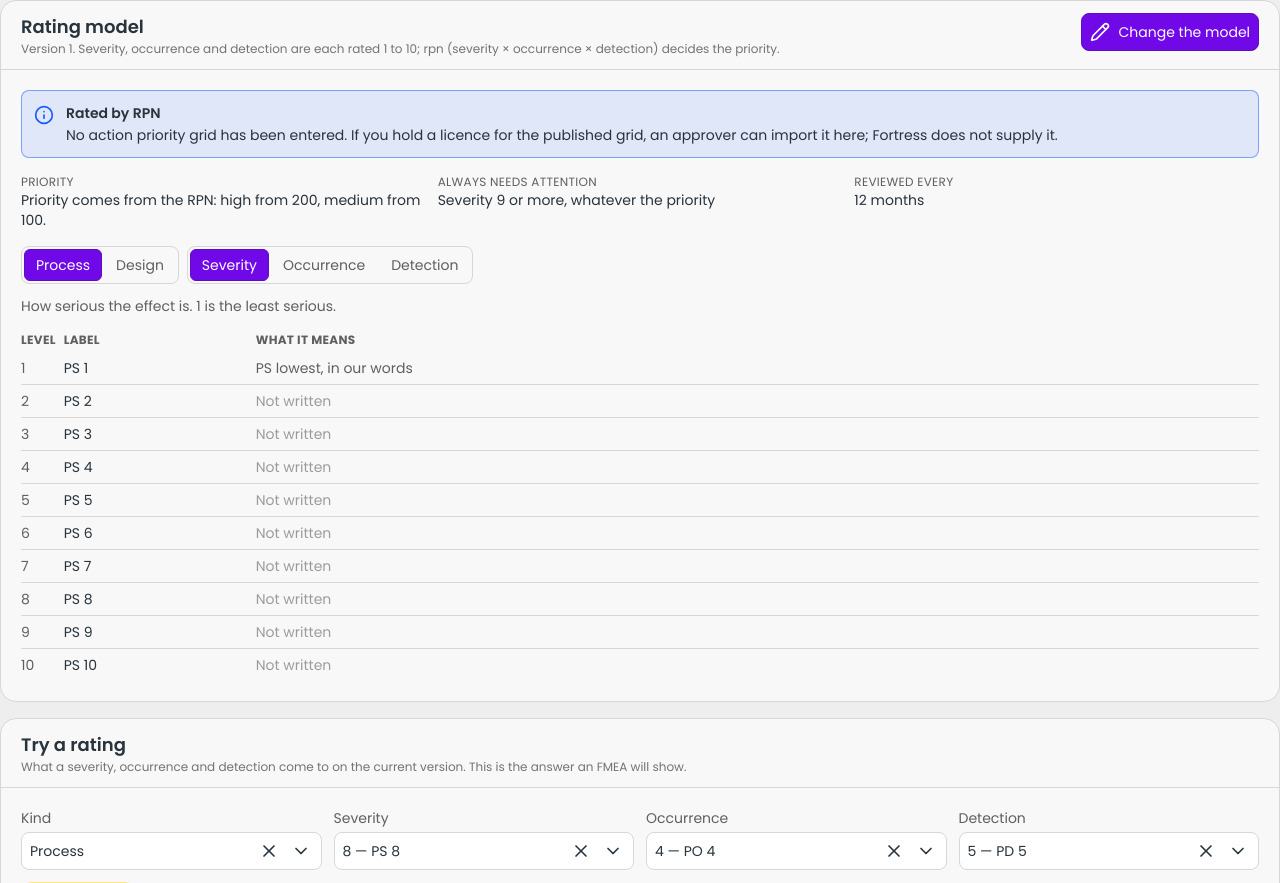
it: Settings → FMEA › shows the model: method, thresholds and the words of each scale, per kind
Expected: the text "Priority comes from the RPN: high from 200, medium from 100." is shown, [21,190,426,230]
Expected: the text "Rated by RPN" is shown, [66,103,160,123]
Click the radio button labelled "Design".
click(140, 265)  # box [104,249,176,281]
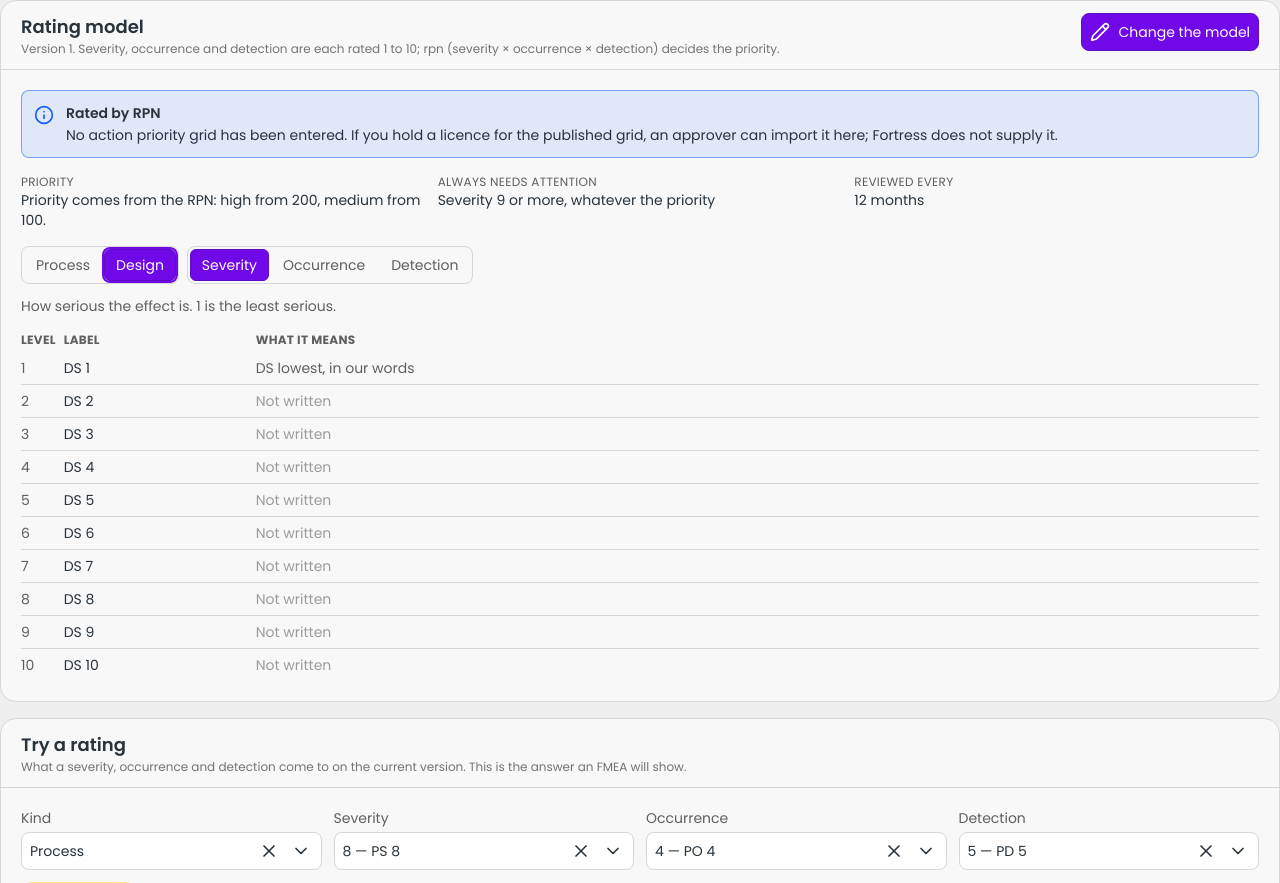
Click the radio button labelled "Detection".
click(425, 265)  # box [379,249,470,281]
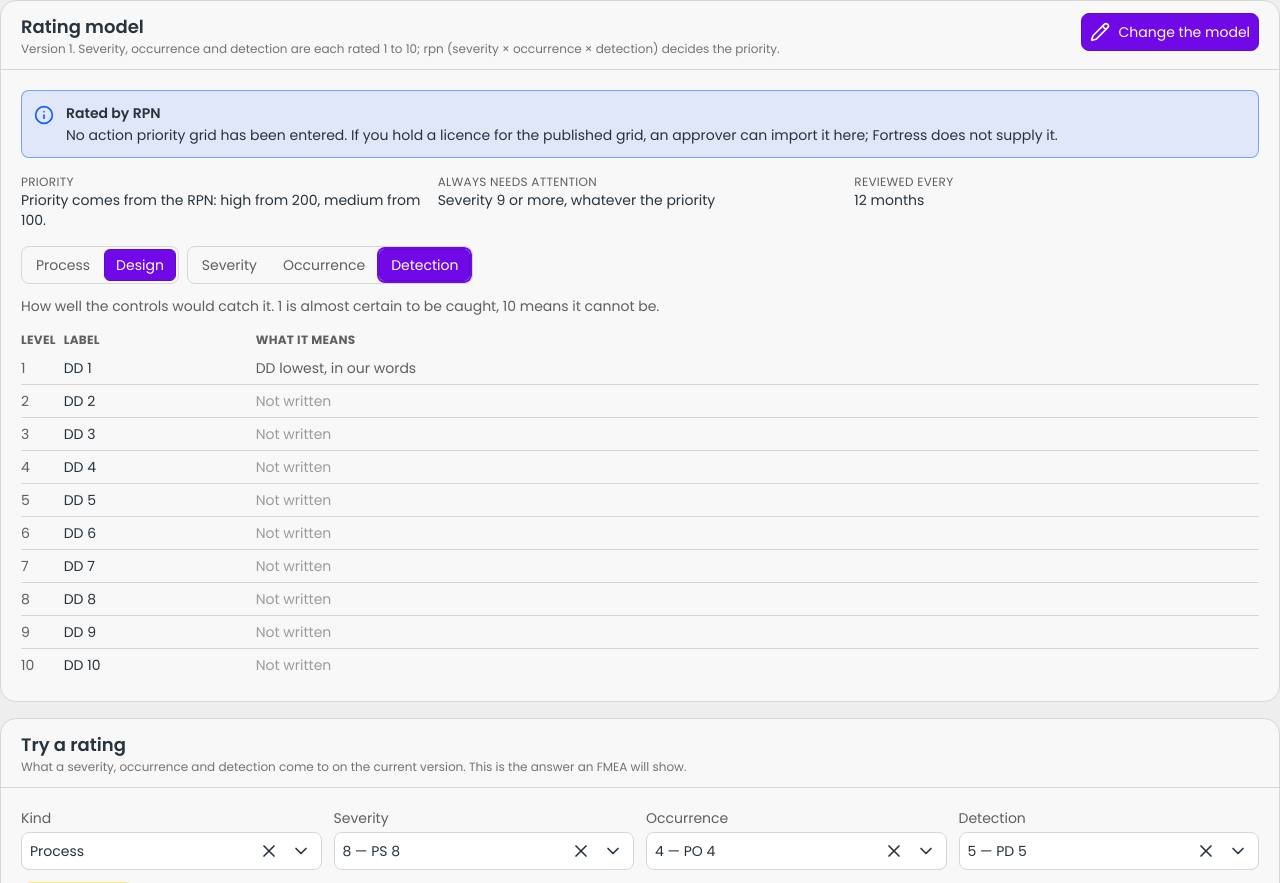
Expected: the text "DD 10" is shown, [64,648,256,681]
